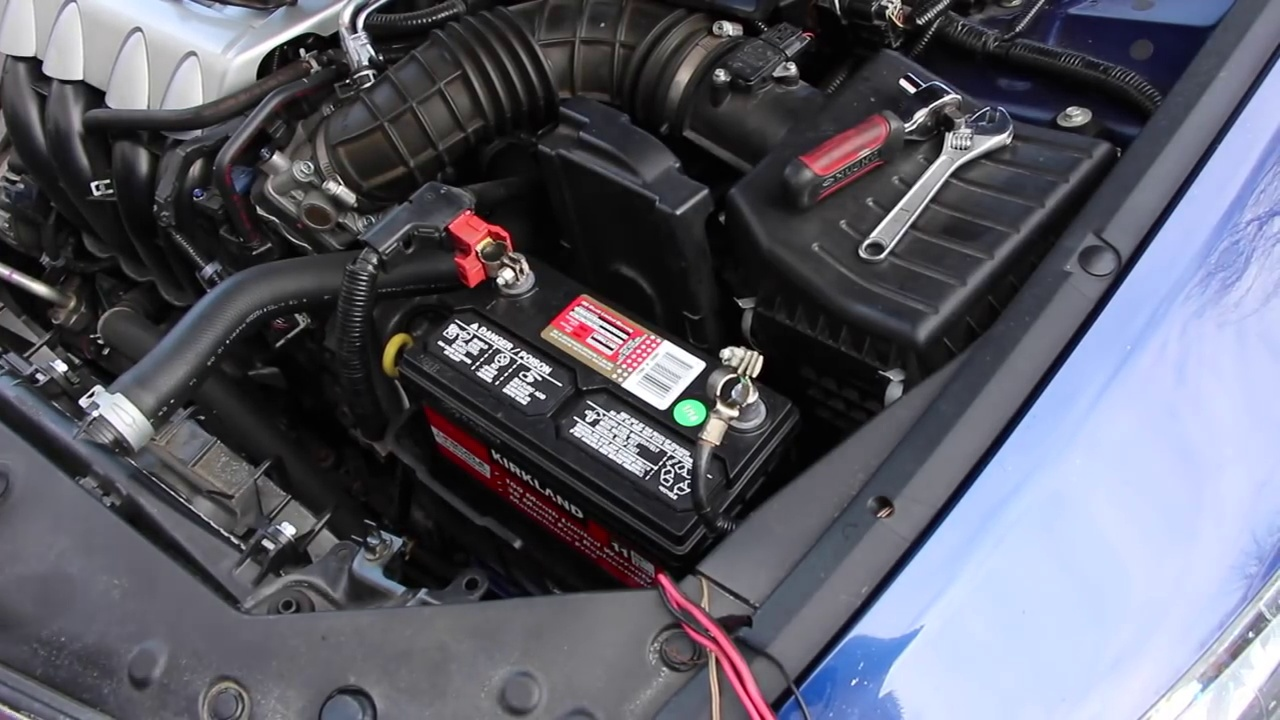battery: (407, 241, 793, 557)
neg_disconnected: (686, 350, 780, 474)
pos_connected: (438, 204, 543, 316)
